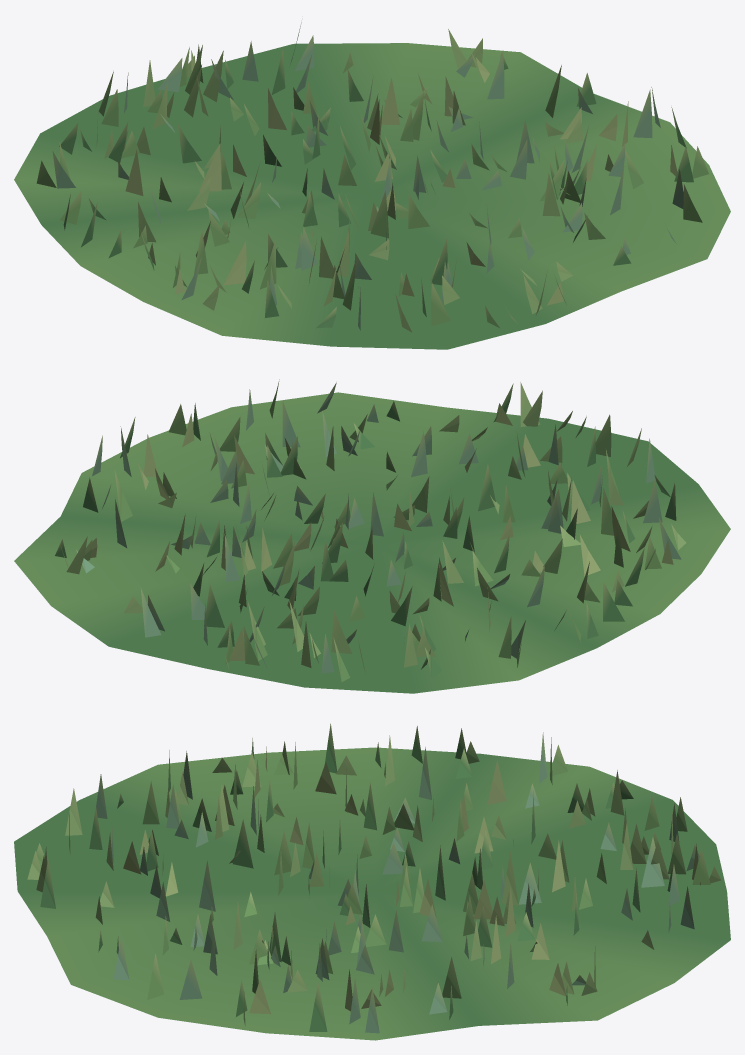
Rendered from short-grass.glb.
The picture shows the model from 3 angles, top to bottom: view 1: azimuth 30°, elevation 25°; view 2: azimuth 150°, elevation 25°; view 3: azimuth 270°, elevation 25°; orthographic projection. The views are drawn at different scales.
Visible parts, largest first — view 1: ShortGrassPatch; view 2: ShortGrassPatch; view 3: ShortGrassPatch.
Boxes of the visible parts, x1,y1,x2,y2 form: ShortGrassPatch: [14, 22, 730, 349]; ShortGrassPatch: [14, 379, 730, 693]; ShortGrassPatch: [14, 723, 730, 1040].
Bounding box in the file's own units: 2.73 × 0.2143 × 2.83.
